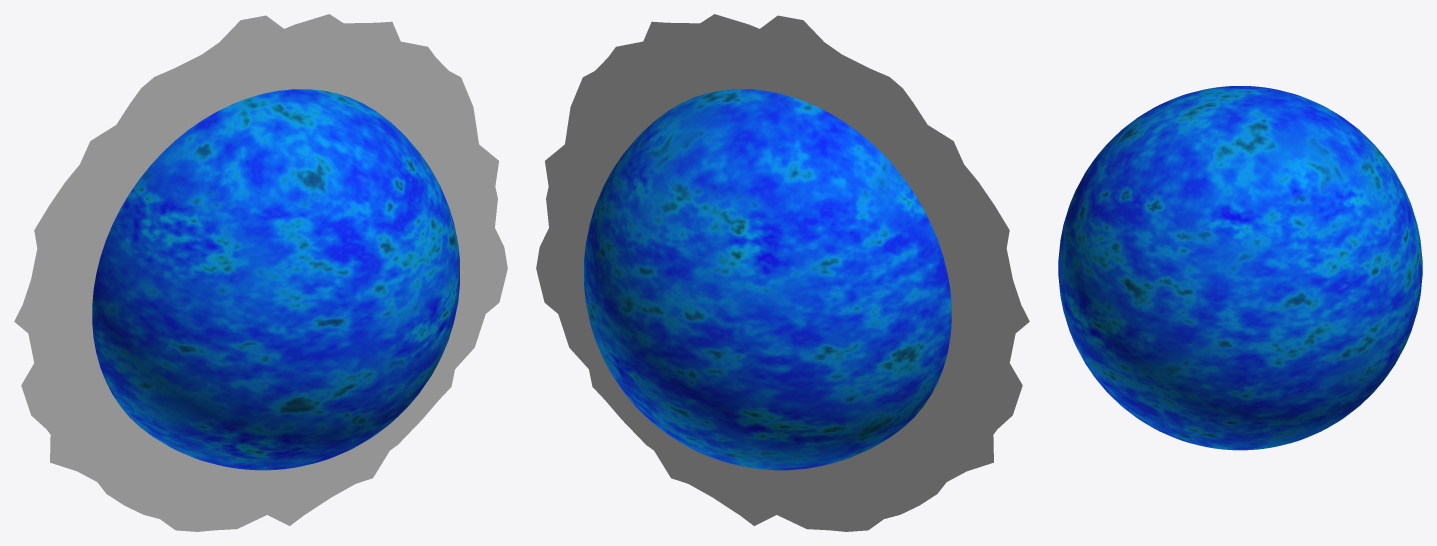
The model's file is sun2.fbx.
3 views of the same model, side by side, from view 1: azimuth 30°, elevation 25°; view 2: azimuth 150°, elevation 25°; view 3: azimuth 270°, elevation 25° (orthographic). The views are drawn at different scales.
Visible parts, largest first — view 1: sun_high_poly, glow; view 2: sun_high_poly, glow; view 3: sun_high_poly.
Boxes of the visible parts, x1,y1,x2,y2 form: sun_high_poly: (92,89,459,470); glow: (14,14,507,531); sun_high_poly: (584,89,951,470); glow: (536,14,1029,531); sun_high_poly: (1058,86,1422,450).
Size of the model in its own units: 144 by 145 by 99.9.
